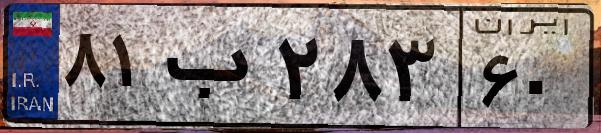0: (525, 38, 570, 115)
1: (110, 28, 158, 98)
2: (270, 28, 330, 110)
3: (385, 28, 445, 110)
6: (475, 38, 525, 113)
8: (330, 28, 385, 110), (57, 26, 110, 100)
ب: (158, 20, 270, 120)
